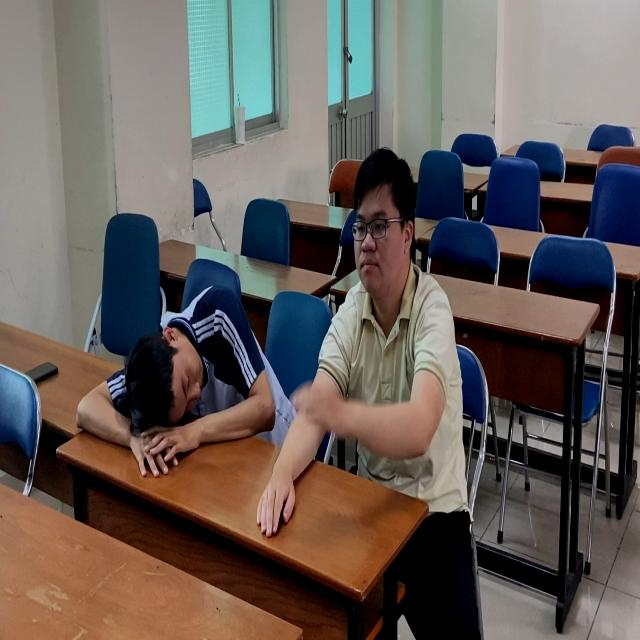sleep: (74, 290, 278, 480)
